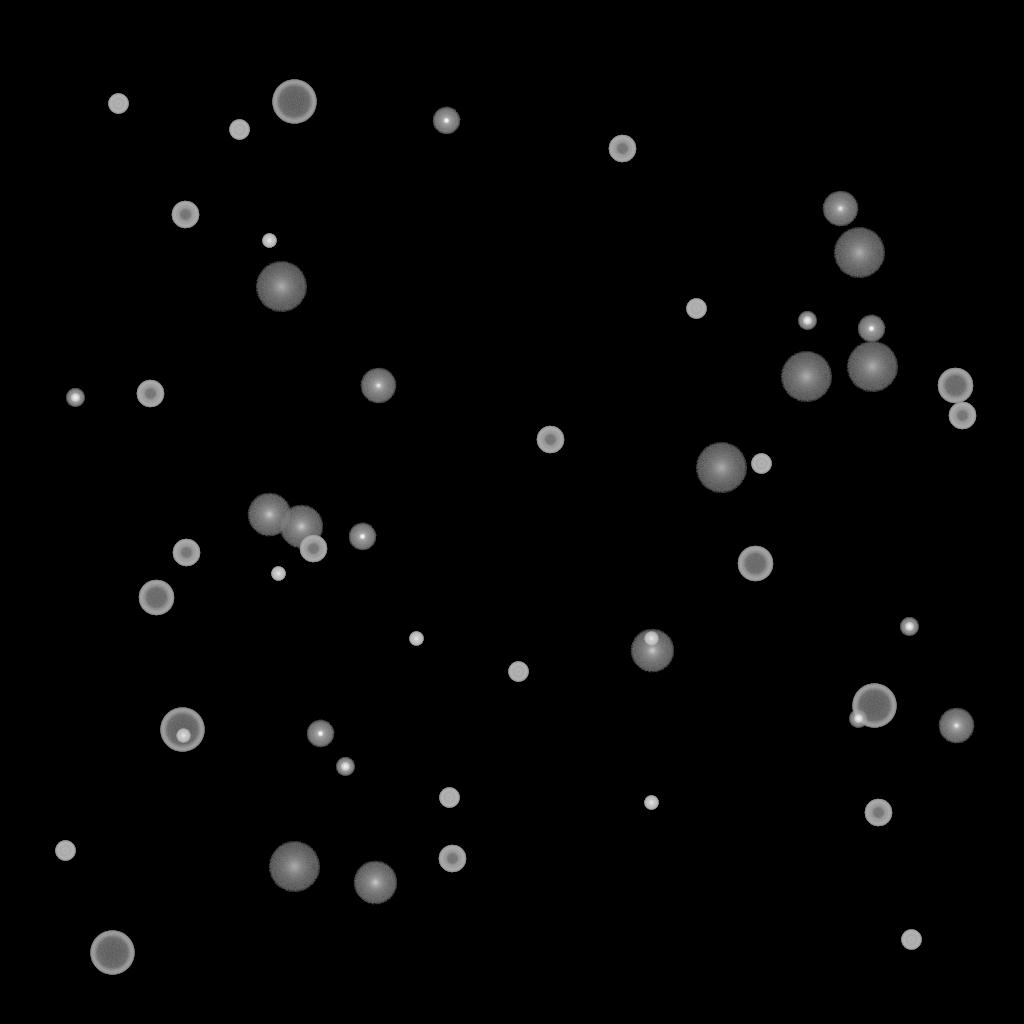depth:-10: (432, 107, 460, 135), (857, 315, 885, 343), (348, 523, 376, 551), (306, 720, 334, 748)
depth:-20: (336, 758, 354, 776), (849, 710, 867, 728), (900, 618, 918, 636), (798, 312, 816, 330), (66, 389, 84, 407)
depth:-30: (262, 234, 276, 248), (409, 632, 423, 646), (644, 796, 658, 810), (644, 632, 658, 646), (271, 567, 285, 581), (176, 729, 190, 743)
depth:-40: (508, 662, 528, 682), (229, 120, 249, 140), (439, 788, 459, 808), (108, 94, 128, 114), (901, 930, 921, 950), (686, 299, 706, 319), (751, 454, 771, 474), (55, 841, 75, 861)
depth:-50: (536, 426, 564, 454), (608, 135, 636, 163), (171, 201, 199, 229), (136, 380, 164, 408), (948, 402, 976, 430), (299, 535, 327, 563), (438, 845, 466, 873), (864, 799, 892, 827), (172, 539, 200, 567)
depth:-60: (737, 546, 773, 582), (937, 368, 973, 404), (138, 580, 174, 616)
depth:-70: (852, 684, 896, 728), (272, 80, 316, 124), (160, 708, 204, 752), (90, 931, 134, 975)
depth:0: (360, 368, 396, 404), (938, 708, 974, 744), (822, 191, 858, 227)
depth:10: (279, 505, 323, 549), (353, 861, 397, 905), (247, 493, 291, 537), (630, 629, 674, 673)
depth:20: (833, 228, 885, 278), (268, 842, 320, 892), (255, 262, 307, 312), (846, 342, 898, 392), (695, 443, 747, 493), (780, 352, 832, 402)
